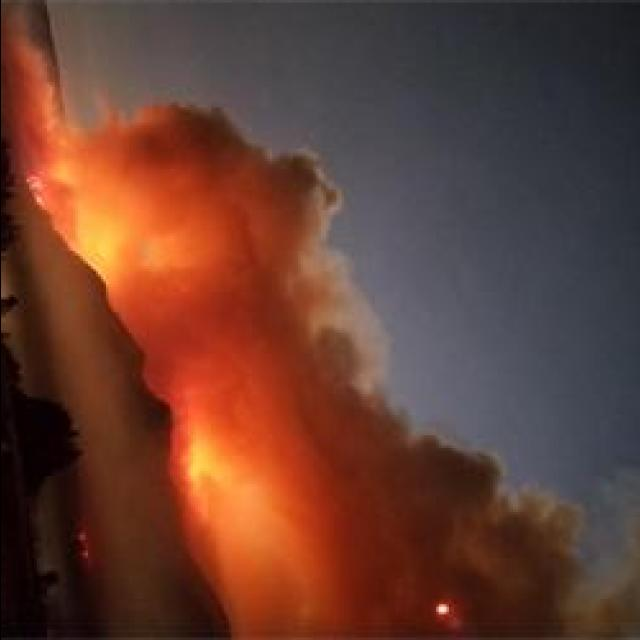fire: (84, 218, 118, 278)
smoke: (183, 146, 343, 272), (274, 296, 396, 452), (234, 520, 398, 634), (359, 432, 503, 526), (560, 471, 640, 640), (144, 282, 258, 396), (459, 491, 581, 589), (92, 100, 254, 168), (0, 31, 71, 155)
